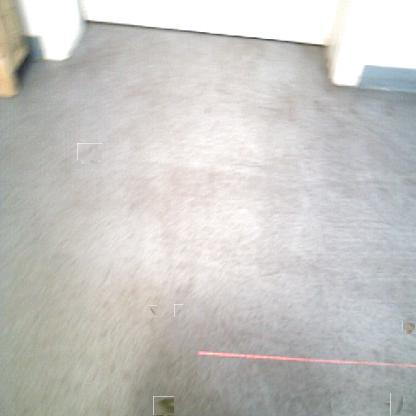dirty: (154, 396, 174, 416), (404, 318, 416, 332)
mark: (79, 141, 100, 162), (385, 398, 408, 416), (260, 267, 280, 277), (174, 304, 183, 317), (149, 305, 157, 318)
